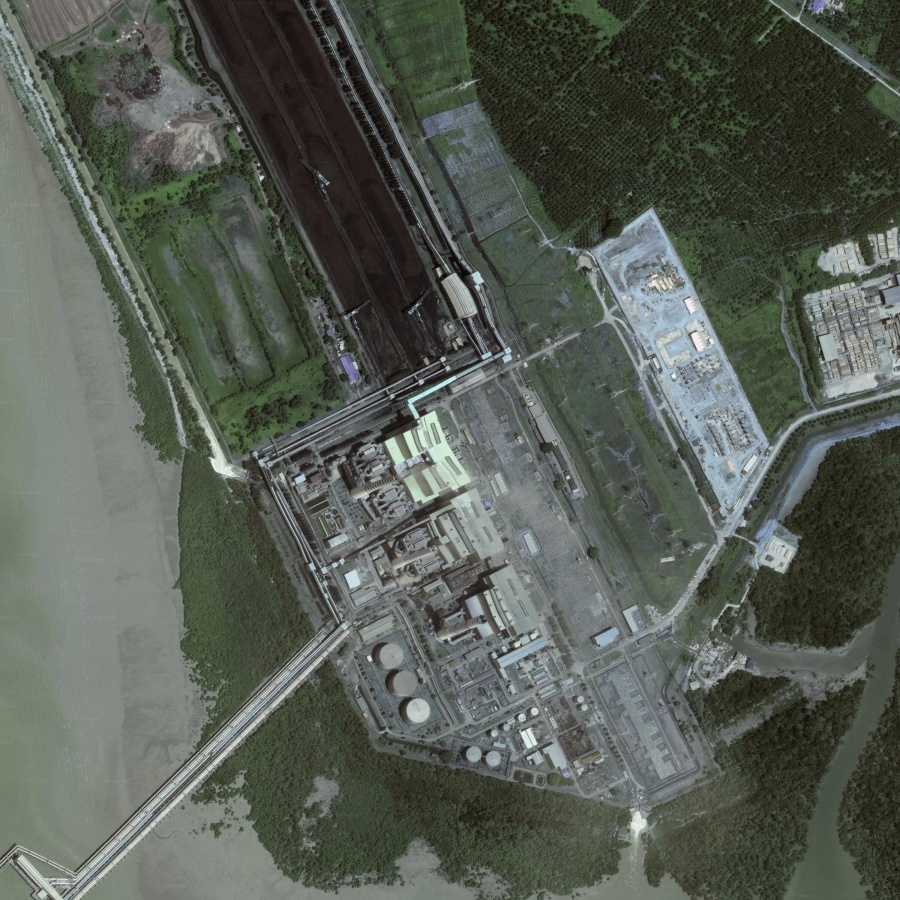PowerPlant: (275, 425, 640, 787)
